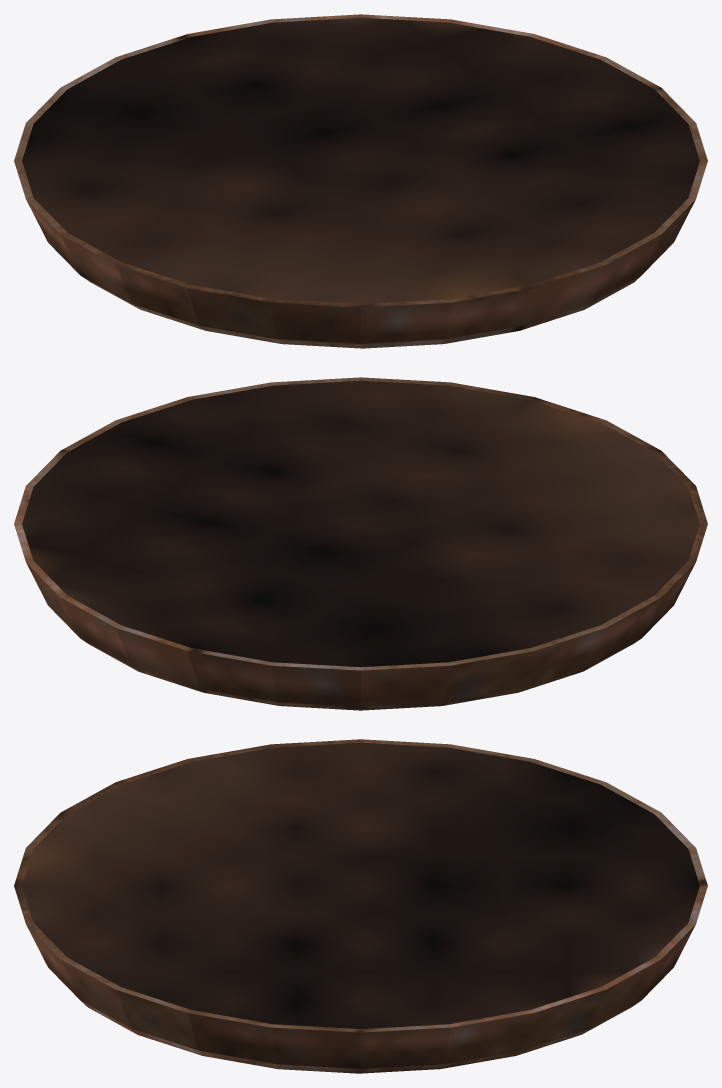
Rendered from BigFan.fbx.
3 views of the same model, one above another, from view 1: azimuth 30°, elevation 25°; view 2: azimuth 150°, elevation 25°; view 3: azimuth 270°, elevation 25° (orthographic).
Parts seen in each view (by area): view 1: Circle; view 2: Circle; view 3: Circle.
Part boxes in pixels (x1,y1,x2,y2): Circle: (14,14,707,348); Circle: (14,377,707,710); Circle: (14,739,707,1073).
Size of the model in its own units: 100 by 9.09 by 100.
